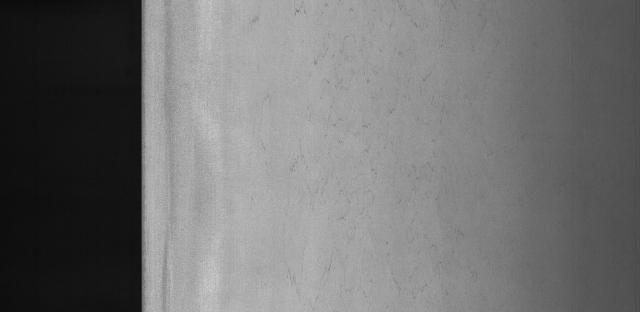silk_spot: (273, 22, 434, 278)
